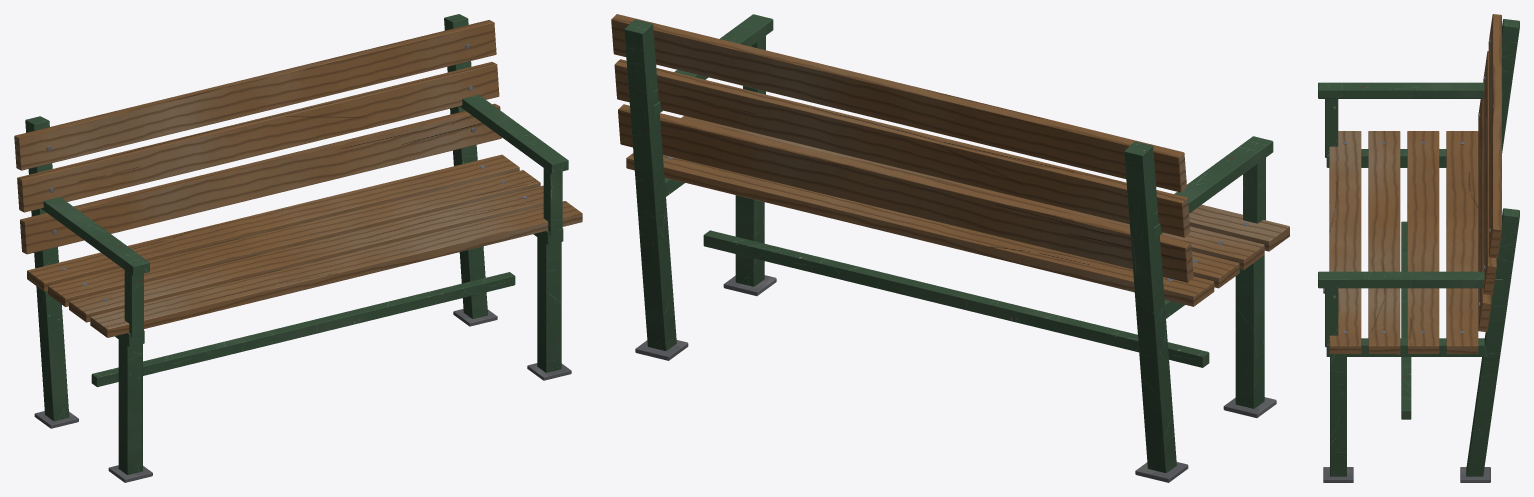
Rendered from bench.glb.
The picture shows the model from 3 angles, left to right: view 1: azimuth 30°, elevation 25°; view 2: azimuth 150°, elevation 25°; view 3: azimuth 270°, elevation 25°; orthographic projection. The views are drawn at different scales.
Visible parts, largest first — view 1: X_bench; view 2: X_bench; view 3: X_bench.
Part boxes in pixels (left/top/right/bottom): X_bench: left=14, top=14, right=582, bottom=482; X_bench: left=611, top=14, right=1289, bottom=482; X_bench: left=1318, top=14, right=1519, bottom=482.
Size of the model in its own units: 1.5 by 0.8658 by 0.5945.
3 materials, 3 textured.
